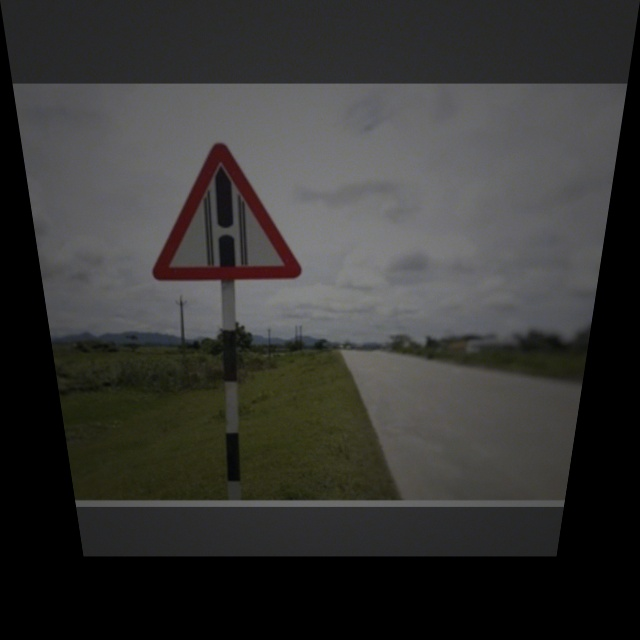Gap_in_Median: (140, 139, 306, 283)
